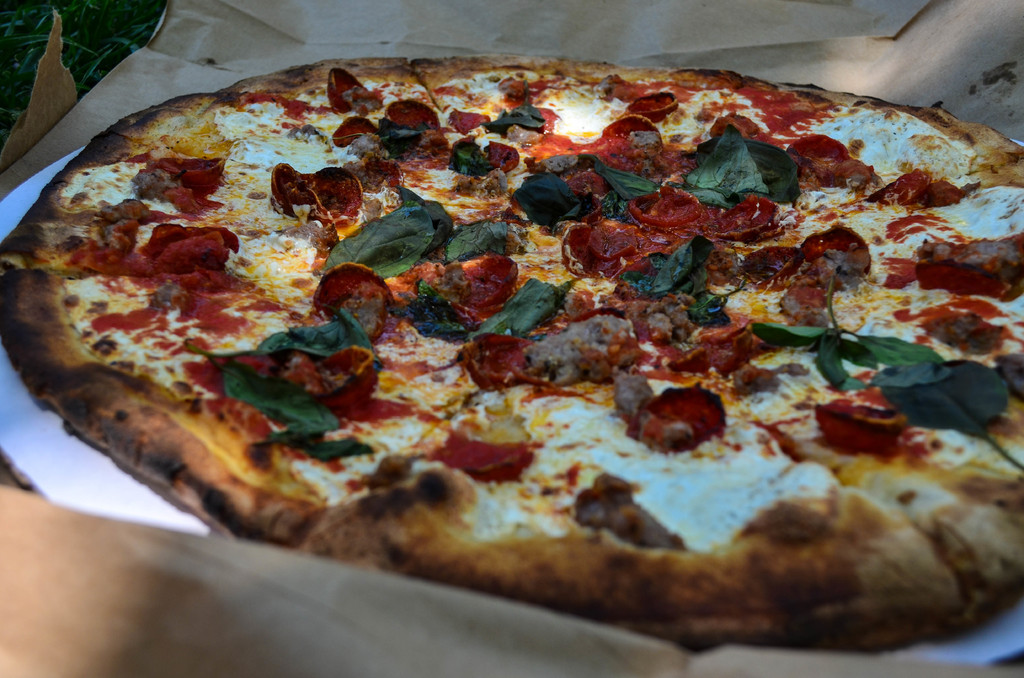Pizza: (0, 49, 1023, 646)
